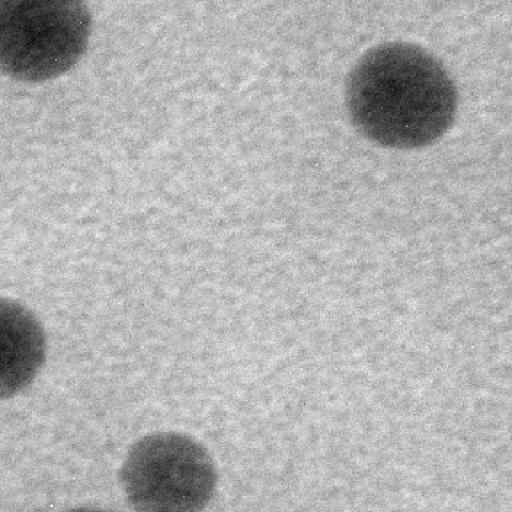Nanoparticles: (342, 39, 460, 156), (114, 426, 220, 512), (0, 0, 96, 84), (0, 292, 54, 412)
